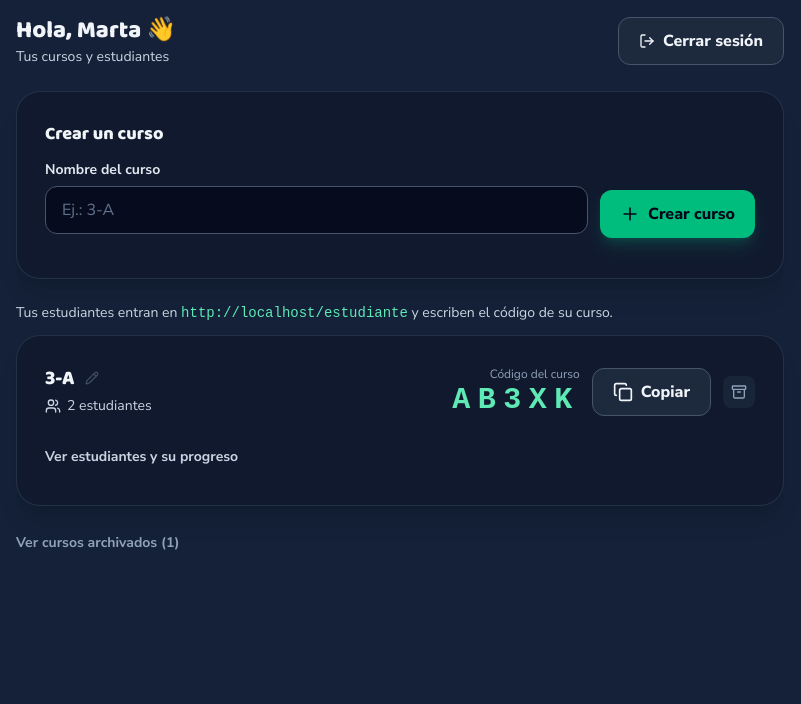
Test: TeacherPanel con datos › si falla el progreso: muestra el error y sigue listando los nombres
Expected: the text "Tus cursos y estudiantes" is shown, [16, 47, 176, 67]
Step 1. Click the heading "Ver estudiantes y su progreso" → (142, 456), box [45, 447, 238, 466]
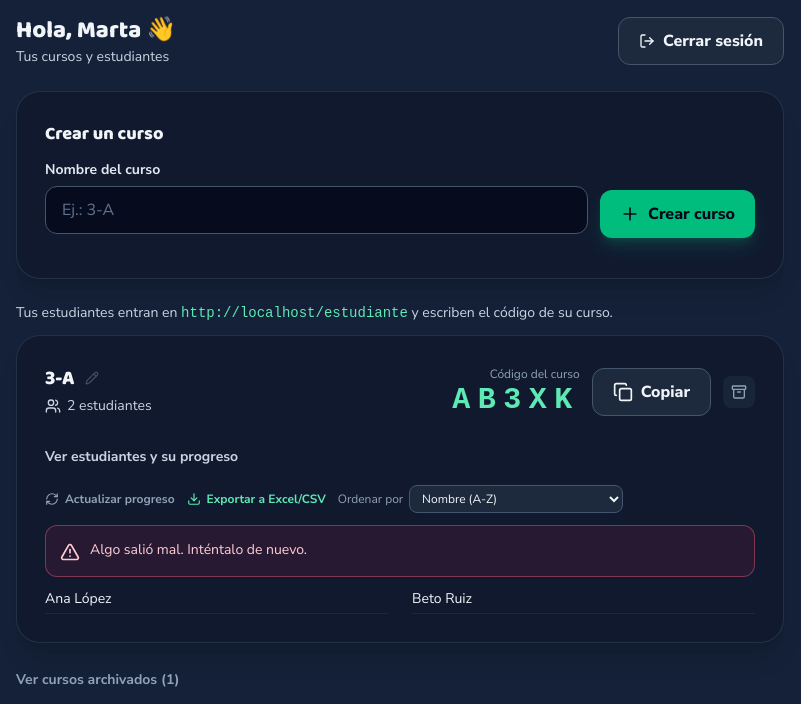
Expected: the message "Algo salió mal. Inténtalo de nuevo." is shown, [45, 525, 755, 577]
Expected: the list item "Ana López" is shown, [45, 585, 388, 614]
Expected: the list item "Beto Ruiz" is shown, [412, 585, 755, 614]
